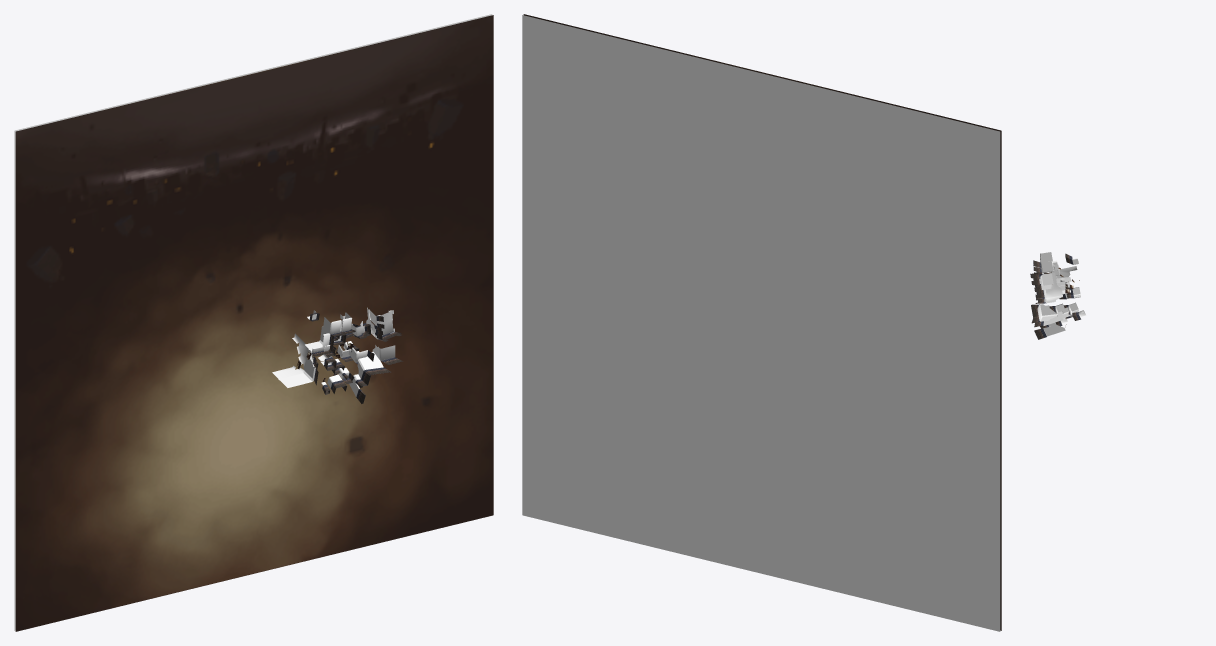
File: skybox.glb
The picture shows the model from 3 angles, left to right: view 1: azimuth 30°, elevation 25°; view 2: azimuth 150°, elevation 25°; view 3: azimuth 270°, elevation 25°; orthographic projection. The views are drawn at different scales.
Parts seen in each view (by area): view 1: rsrc.world.skybox.castle_base.part_model-MeshNodes["backdrop (×2), rsrc.world.skybox.castle_base.parts.buildings-MeshNodes["mes (×2); view 2: rsrc.world.skybox.castle_base.part_model-MeshNodes["backdrop (×2); view 3: rsrc.world.skybox.castle_base.parts.buildings-MeshNodes["mes (×2).
Boxes of the visible parts, x1=… form: rsrc.world.skybox.castle_base.part_model-MeshNodes["backdrop (×2): x1=14, y1=14, x2=493, y2=631; rsrc.world.skybox.castle_base.parts.buildings-MeshNodes["mes (×2): x1=272, y1=307, x2=402, y2=403; rsrc.world.skybox.castle_base.part_model-MeshNodes["backdrop (×2): x1=522, y1=14, x2=1001, y2=631; rsrc.world.skybox.castle_base.parts.buildings-MeshNodes["mes (×2): x1=1030, y1=252, x2=1085, y2=339.
Bounding box in the file's own units: 230 × 230 × 84.82.
6 materials, 4 textured.
